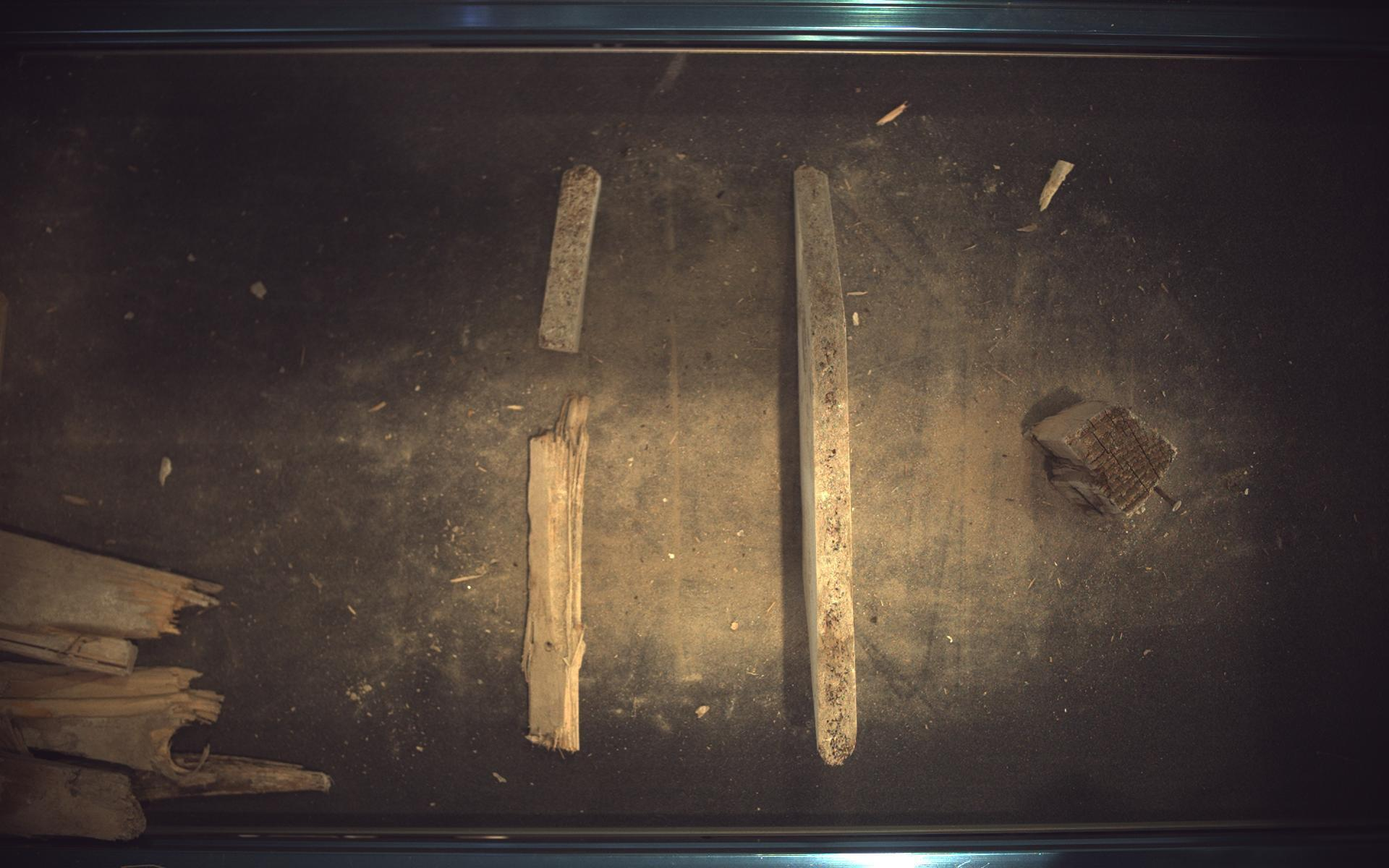wood: (796, 166, 859, 767), (522, 395, 590, 754), (1032, 401, 1180, 519), (539, 164, 602, 352)
